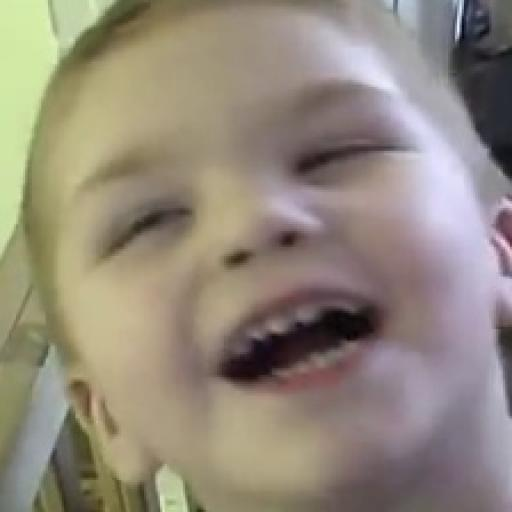Autism: (41, 27, 512, 489)
